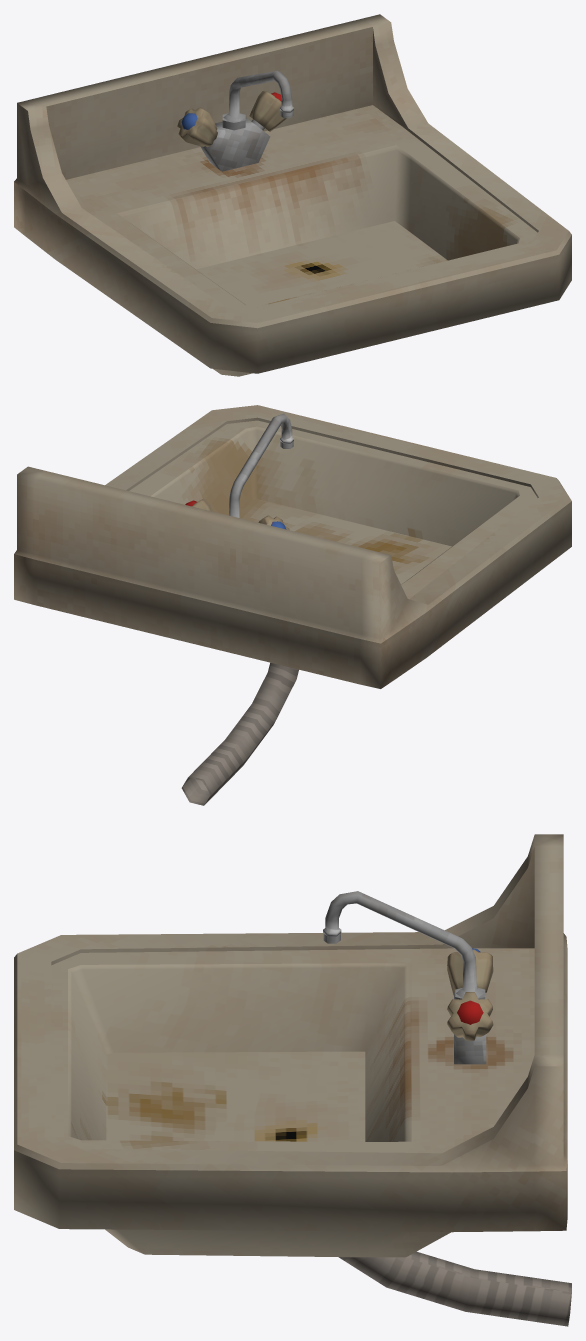
Rendered from Sink.fbx.
The picture shows the model from 3 angles, top to bottom: view 1: azimuth 30°, elevation 25°; view 2: azimuth 150°, elevation 25°; view 3: azimuth 270°, elevation 25°; orthographic projection. The views are drawn at different scales.
Visible parts, largest first — view 1: Sink; view 2: Sink; view 3: Sink.
Boxes of the visible parts, <box> form: Sink: <box>14,14,571,376</box>; Sink: <box>14,405,571,805</box>; Sink: <box>14,834,571,1326</box>.
Size of the model in its own units: 47.66 by 40.39 by 47.39.
Materials: 1 (1 with a texture image).
